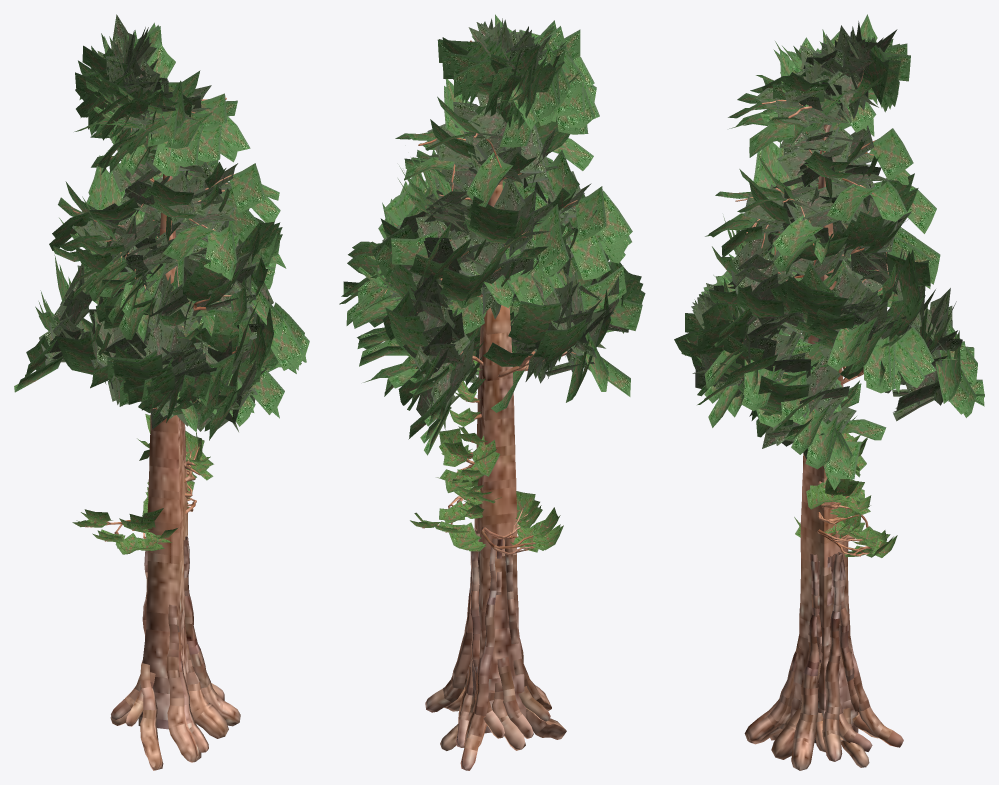
The model's file is tree.glb.
The picture shows the model from 3 angles, left to right: view 1: azimuth 30°, elevation 25°; view 2: azimuth 150°, elevation 25°; view 3: azimuth 270°, elevation 25°; orthographic projection. The views are drawn at different scales.
Parts seen in each view (by area): view 1: Sequoia5; view 2: Sequoia5; view 3: Sequoia5.
Boxes of the visible parts, <box> form: Sequoia5: <box>14,14,309,770</box>; Sequoia5: <box>339,14,645,770</box>; Sequoia5: <box>674,14,984,770</box>.
Size of the model in its own units: 18.74 by 47.09 by 18.31.
Materials: 1 (1 with a texture image).
